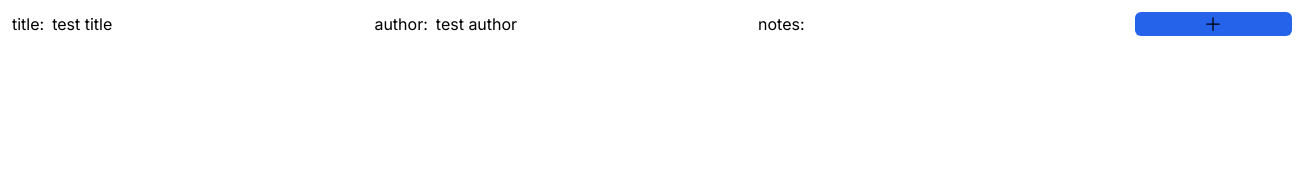
Test: edit form › gives user feedback when missing required fields
Clear the field labelled "title:" at (209, 24), box [52,12,366,36]
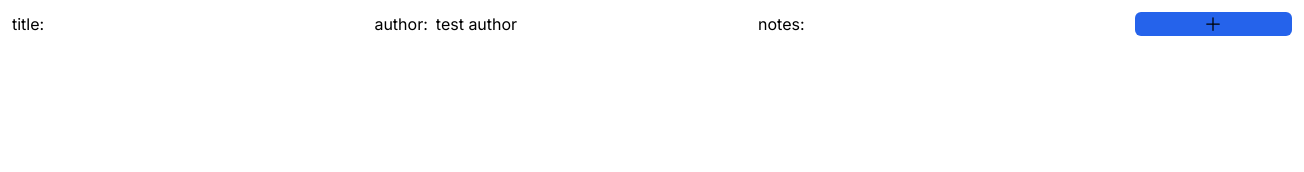
Submit the form from the button, box [1135,12,1292,36]
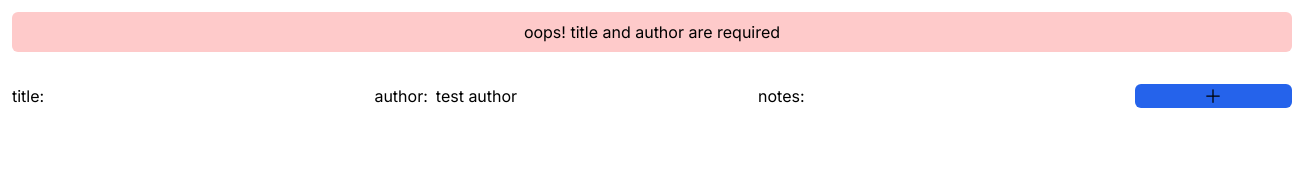
Expected: the heading "oops! title and author are required" is shown, [12,12,1292,52]
